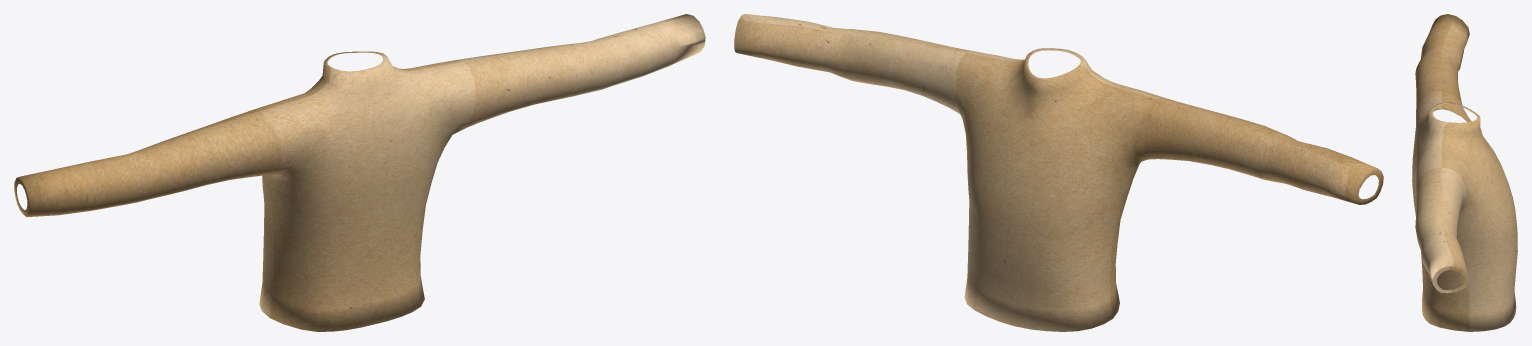
The model's file is M2M_Cloth.gltf.
The picture shows the model from 3 angles, left to right: view 1: azimuth 30°, elevation 25°; view 2: azimuth 150°, elevation 25°; view 3: azimuth 270°, elevation 25°; orthographic projection. The views are drawn at different scales.
Visible parts, largest first — view 1: M2M_Cloth_i; view 2: M2M_Cloth_i; view 3: M2M_Cloth_i.
Boxes of the visible parts, left/top/right/bottom form: M2M_Cloth_i: left=14, top=14, right=705, bottom=331; M2M_Cloth_i: left=734, top=14, right=1383, bottom=331; M2M_Cloth_i: left=1412, top=14, right=1517, bottom=331.
Size of the model in its own units: 0.7548 by 0.27 by 0.1327.
1 material, 1 textured.
